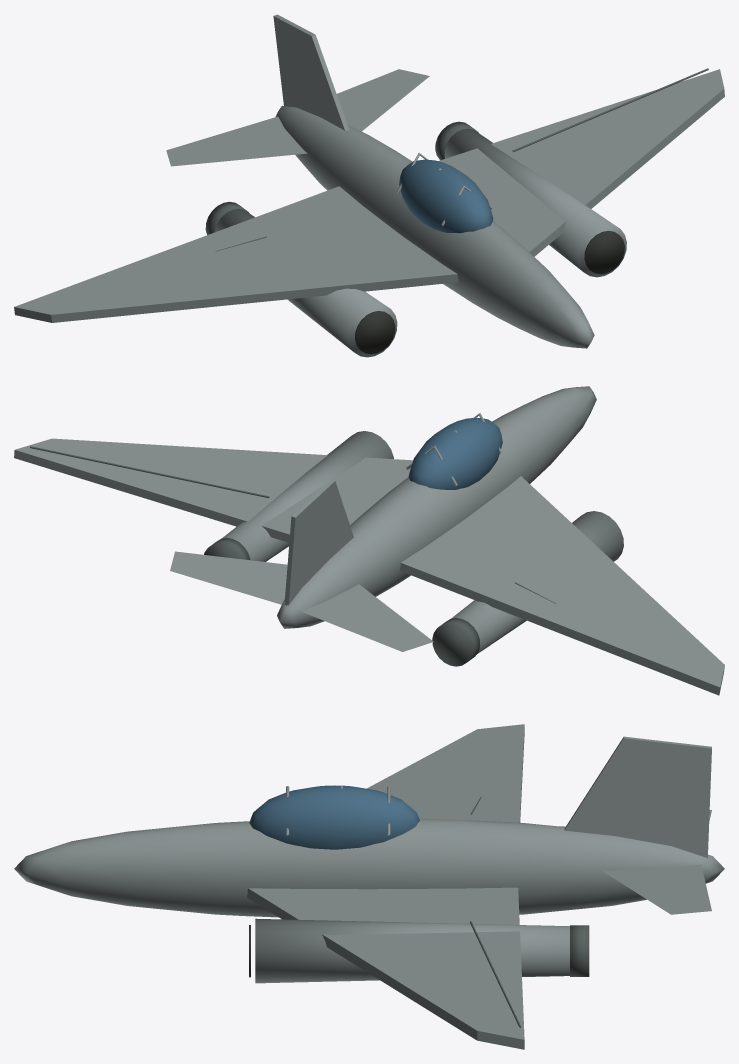
The model's file is jet-aircraft.glb.
The picture shows the model from 3 angles, top to bottom: view 1: azimuth 30°, elevation 25°; view 2: azimuth 150°, elevation 25°; view 3: azimuth 270°, elevation 25°; orthographic projection. The views are drawn at different scales.
Parts seen in each view (by area): view 1: unit_root_geometry; view 2: unit_root_geometry; view 3: unit_root_geometry.
Part boxes in pixels (box(x1,y1,x2,y2)): unit_root_geometry: box(14, 14, 724, 357); unit_root_geometry: box(14, 386, 724, 695); unit_root_geometry: box(14, 724, 724, 1049).
Bounding box in the file's own units: 4.29 × 1.03 × 3.3.
